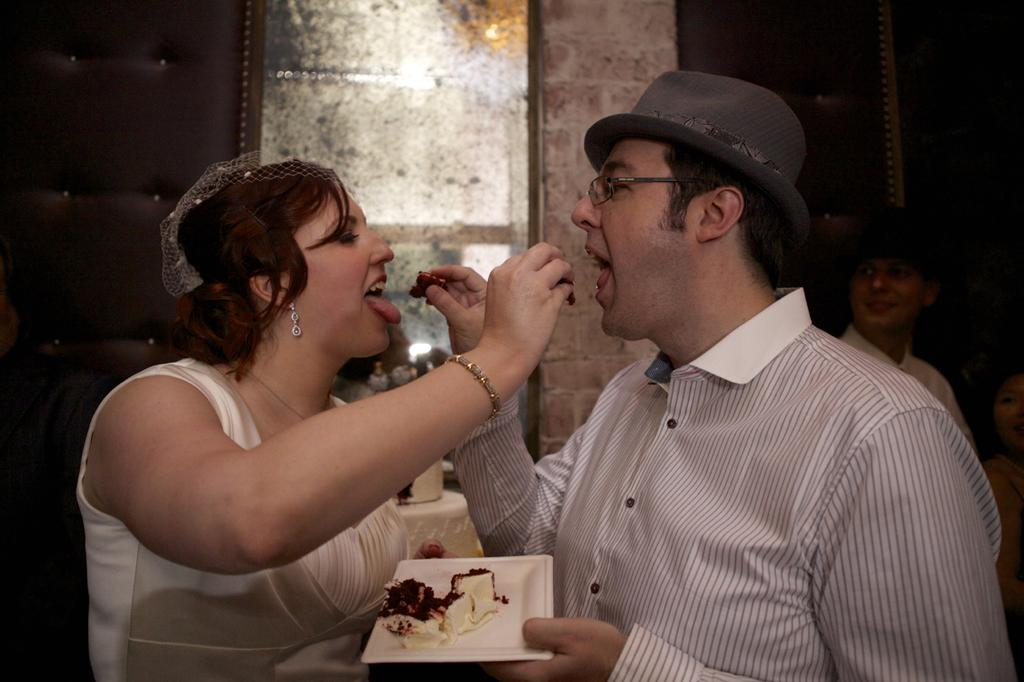Hat: (578, 66, 808, 244)
